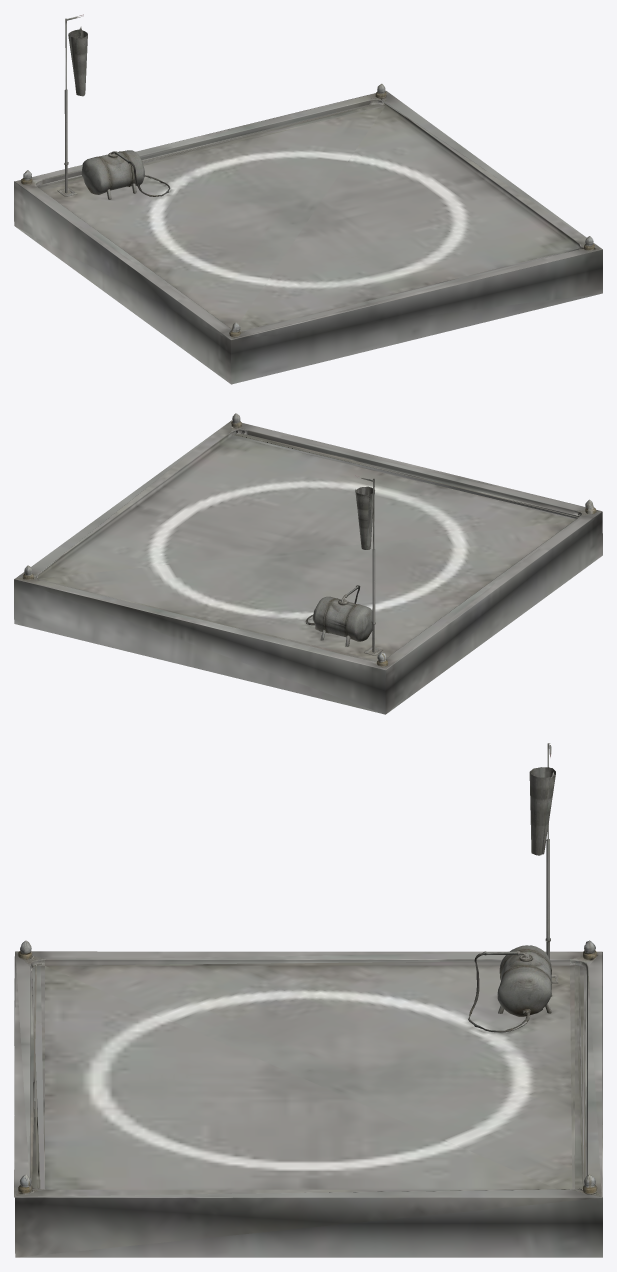
The model's file is helipad.glb.
3 renders of one model, top to bottom at view 1: azimuth 30°, elevation 25°; view 2: azimuth 150°, elevation 25°; view 3: azimuth 270°, elevation 25°, orthographic. The views are drawn at different scales.
Parts seen in each view (by area): view 1: hull; view 2: hull; view 3: hull.
Boxes of the visible parts, left/top/right/bottom form: hull: left=14, top=14, right=602, bottom=384; hull: left=14, top=413, right=602, bottom=714; hull: left=14, top=743, right=602, bottom=1257.
Size of the model in its own units: 13.29 by 7.3 by 13.44.
2 materials, 2 textured.
